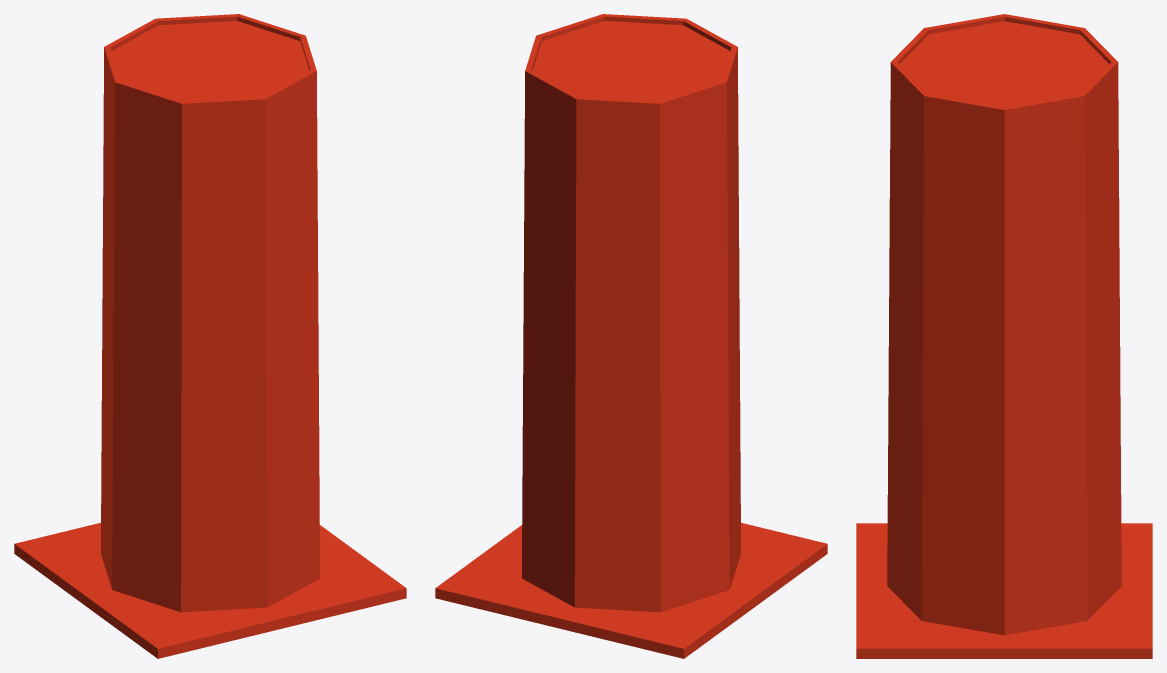
The model's file is plot3.fbx.
The picture shows the model from 3 angles, left to right: view 1: azimuth 30°, elevation 25°; view 2: azimuth 150°, elevation 25°; view 3: azimuth 270°, elevation 25°; orthographic projection. The views are drawn at different scales.
Visible parts, largest first — view 1: plot3; view 2: plot3; view 3: plot3.
Part boxes in pixels (x1,y1,x2,y2): plot3: (14,14,406,658); plot3: (435,14,827,658); plot3: (856,14,1152,658).
Size of the model in its own units: 26.5 by 52.66 by 26.5.
